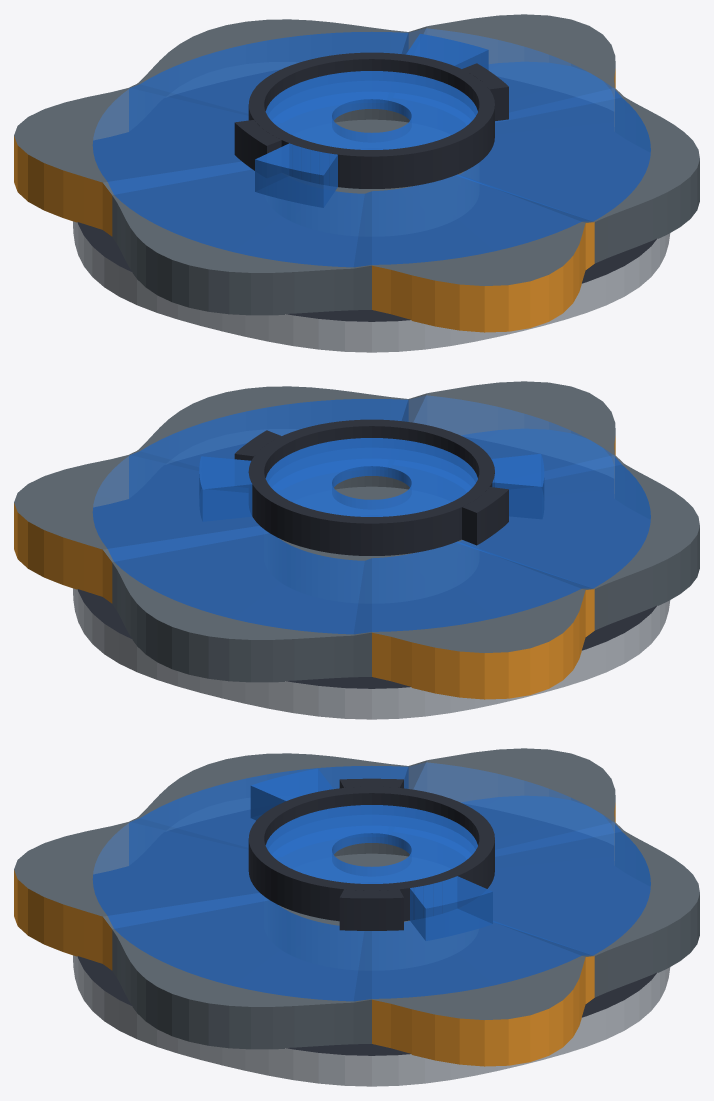
File: assembly_phase2b_balance_representative.glb
3 renders of one model, top to bottom at view 1: azimuth 30°, elevation 25°; view 2: azimuth 150°, elevation 25°; view 3: azimuth 270°, elevation 25°, orthographic.
Visible parts, largest first — view 1: GEO_blade_dual_comet_BODY, GEO_assist_heavy_BODY, GEO_core_void_falcon_HUB, GEO_core_void_falcon_NSS_V1_COLLAR, GEO_core_void_falcon_OUTER_ARC_2, GEO_core_void_falcon_OUTER_ARC_1, GEO_core_void_falcon_INNER_ARC_2, GEO_core_void_falcon_INNER_ARC_1, GEO_blade_dual_comet_NSS_V1_COLLAR; view 2: GEO_blade_dual_comet_BODY, GEO_assist_heavy_BODY, GEO_core_void_falcon_HUB, GEO_core_void_falcon_NSS_V1_COLLAR, GEO_core_void_falcon_OUTER_ARC_1, GEO_core_void_falcon_OUTER_ARC_2, GEO_core_void_falcon_INNER_ARC_2, GEO_blade_dual_comet_NSS_V1_COLLAR, GEO_core_void_falcon_INNER_ARC_1; view 3: GEO_blade_dual_comet_BODY, GEO_assist_heavy_BODY, GEO_core_void_falcon_NSS_V1_COLLAR, GEO_core_void_falcon_HUB, GEO_core_void_falcon_OUTER_ARC_1, GEO_core_void_falcon_INNER_ARC_1, GEO_core_void_falcon_OUTER_ARC_2, GEO_blade_dual_comet_NSS_V1_COLLAR, GEO_core_void_falcon_INNER_ARC_2.
Part boxes in pixels (bbox=[...]): GEO_blade_dual_comet_BODY: bbox=[14, 14, 699, 332]; GEO_assist_heavy_BODY: bbox=[73, 70, 670, 352]; GEO_core_void_falcon_HUB: bbox=[248, 52, 494, 188]; GEO_core_void_falcon_NSS_V1_COLLAR: bbox=[265, 71, 477, 149]; GEO_core_void_falcon_OUTER_ARC_2: bbox=[255, 143, 337, 207]; GEO_core_void_falcon_OUTER_ARC_1: bbox=[406, 34, 488, 70]; GEO_core_void_falcon_INNER_ARC_2: bbox=[234, 120, 281, 170]; GEO_core_void_falcon_INNER_ARC_1: bbox=[462, 63, 508, 120]; GEO_blade_dual_comet_NSS_V1_COLLAR: bbox=[335, 119, 464, 193]; GEO_blade_dual_comet_BODY: bbox=[14, 381, 699, 699]; GEO_assist_heavy_BODY: bbox=[73, 437, 670, 719]; GEO_core_void_falcon_HUB: bbox=[248, 419, 494, 555]; GEO_core_void_falcon_NSS_V1_COLLAR: bbox=[265, 438, 477, 516]; GEO_core_void_falcon_OUTER_ARC_1: bbox=[199, 456, 252, 521]; GEO_core_void_falcon_OUTER_ARC_2: bbox=[491, 454, 544, 519]; GEO_core_void_falcon_INNER_ARC_2: bbox=[462, 487, 508, 545]; GEO_blade_dual_comet_NSS_V1_COLLAR: bbox=[279, 486, 461, 560]; GEO_core_void_falcon_INNER_ARC_1: bbox=[234, 430, 281, 460]; GEO_blade_dual_comet_BODY: bbox=[14, 748, 699, 1066]; GEO_assist_heavy_BODY: bbox=[73, 804, 670, 1086]; GEO_core_void_falcon_NSS_V1_COLLAR: bbox=[265, 805, 477, 883]; GEO_core_void_falcon_HUB: bbox=[248, 786, 494, 921]; GEO_core_void_falcon_OUTER_ARC_1: bbox=[410, 876, 492, 940]; GEO_core_void_falcon_INNER_ARC_1: bbox=[339, 889, 403, 930]; GEO_core_void_falcon_OUTER_ARC_2: bbox=[250, 768, 333, 820]; GEO_blade_dual_comet_NSS_V1_COLLAR: bbox=[279, 853, 409, 925]; GEO_core_void_falcon_INNER_ARC_2: bbox=[339, 778, 403, 788].
Size of the model in its own units: 0.0643 by 0.0265 by 0.0688.
